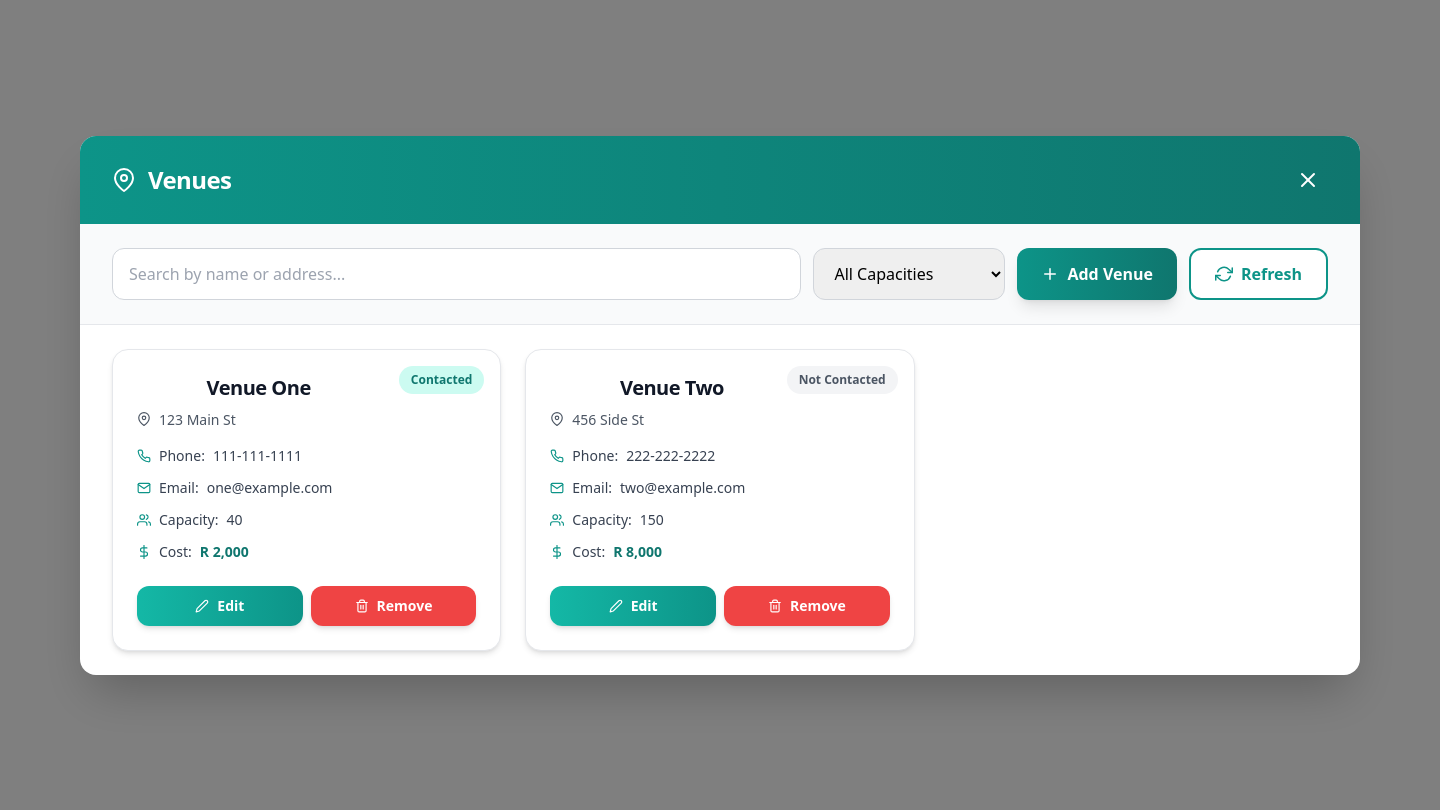
Scenario: VenuesModal › filters venues by capacity
This screenshot has width=1440, height=810.
Check: the heading "Venue One" is shown, box [207,374,311,400]
Select "Small (<50)" in the dropdown showing "All Capacities" at (909,274), box [813,248,1005,300]
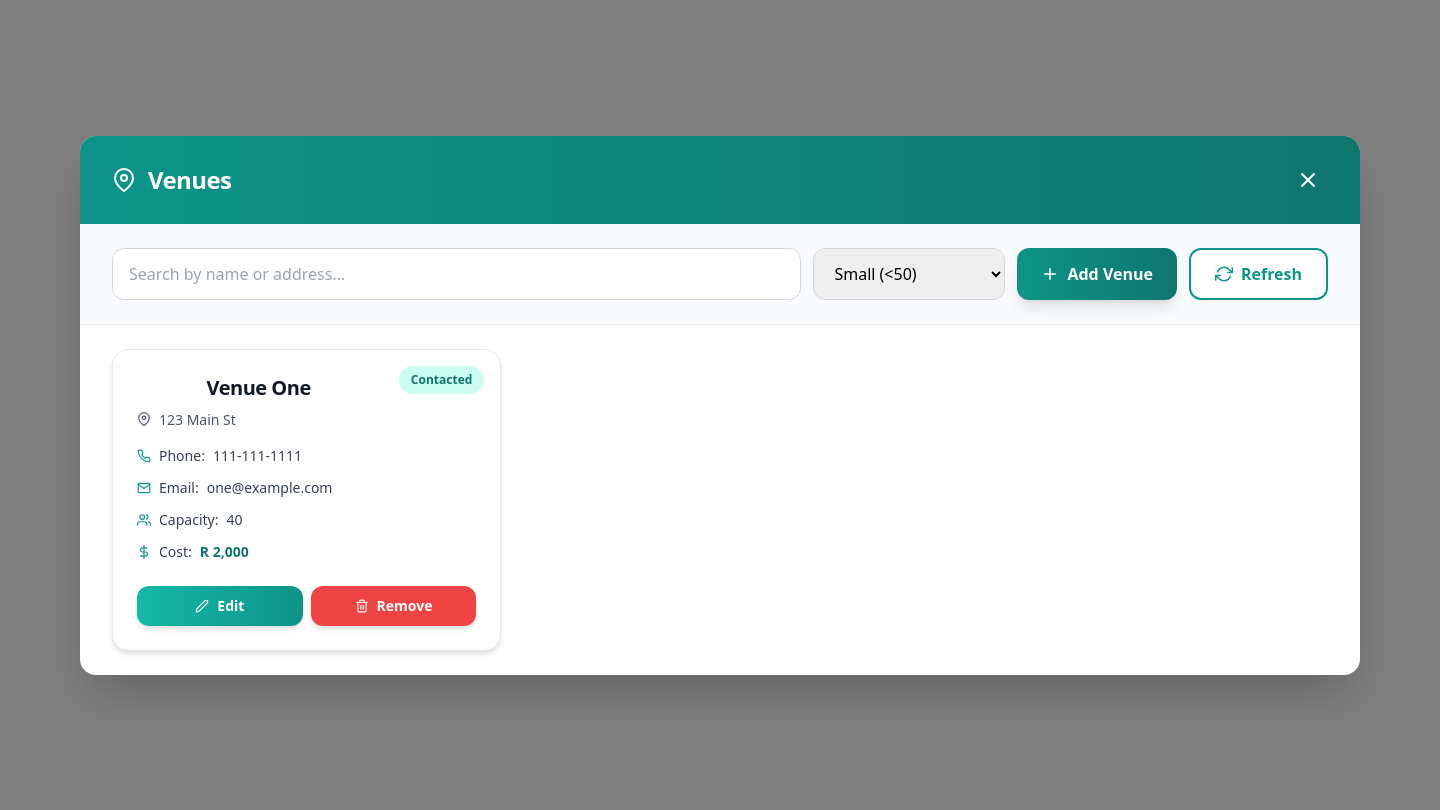
Check: the heading "Venue One" is shown, box [207,374,311,400]
Check: the heading "Venue Two" is gone
